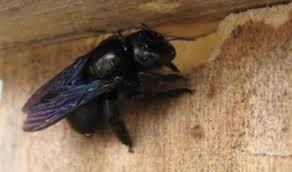Xylocopa: (19, 23, 200, 148)
